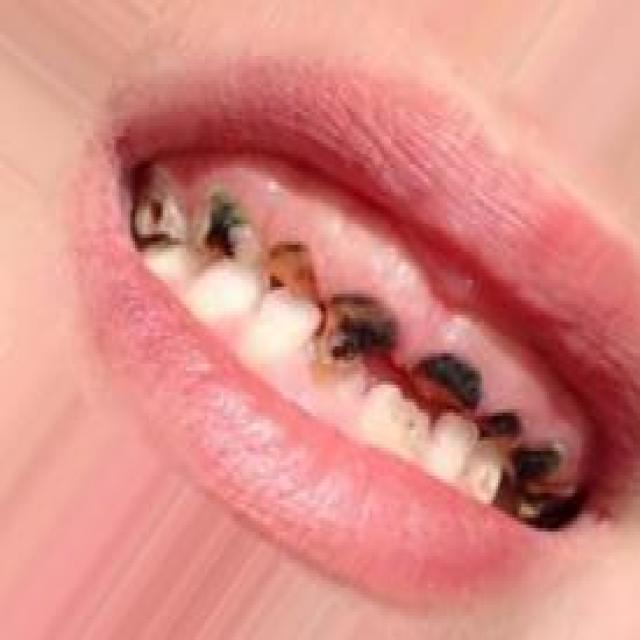caries: (321, 273, 398, 379), (409, 319, 480, 422), (521, 417, 577, 505), (194, 178, 250, 265), (265, 221, 319, 305), (139, 170, 182, 248), (480, 395, 520, 455)
